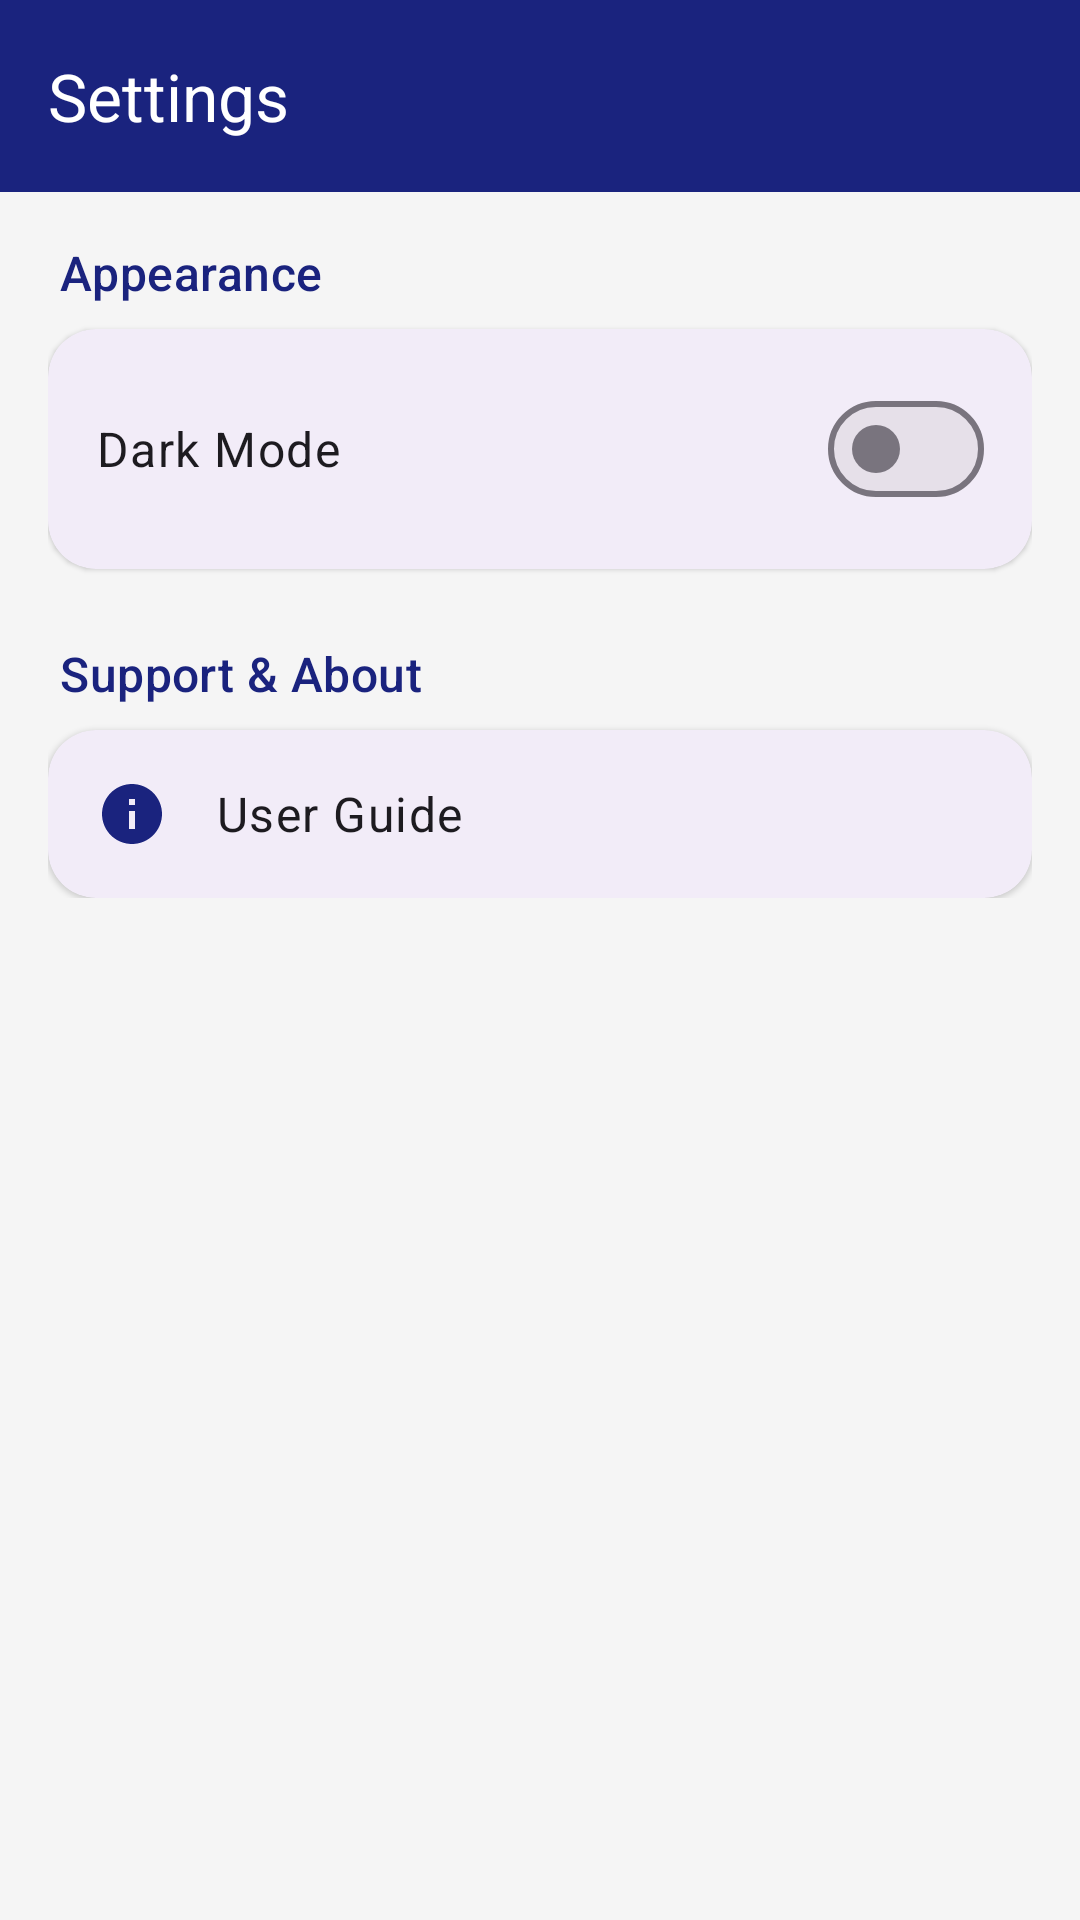

Icons on this 1080×1920 Android screen, each with the point to tap as (x,y):
info: (132,814)
